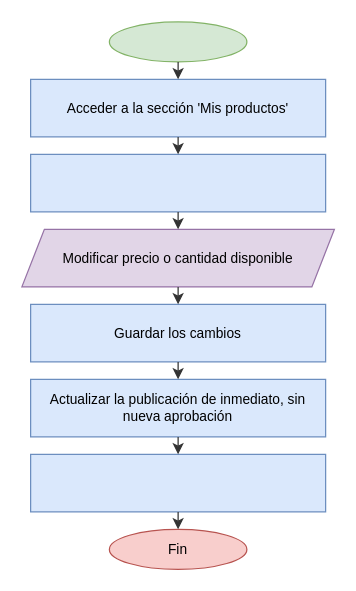
Some shapes in this 356 by 591 pixel diagram are drawn without their labels. Here are the shapes that lost their labels. From the top down, the centre of each, then its label:
point 177,41: Inicio
point 177,182: Seleccionar una publicación activa
point 177,482: Registrar el log de auditoría
